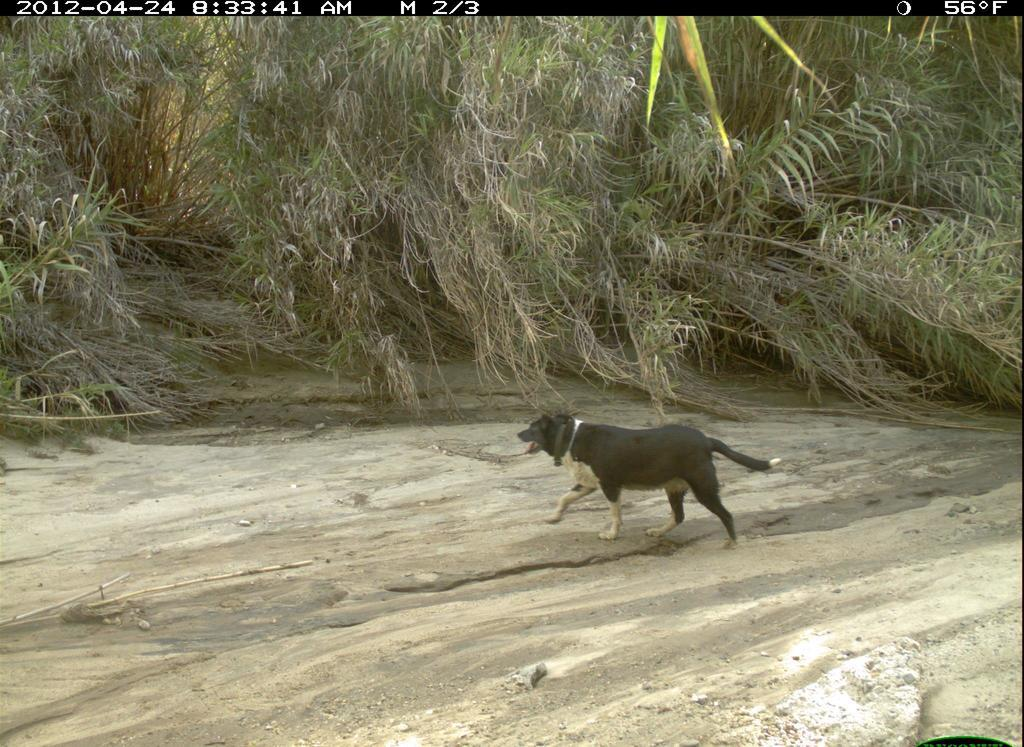dog: (514, 393, 797, 556)
